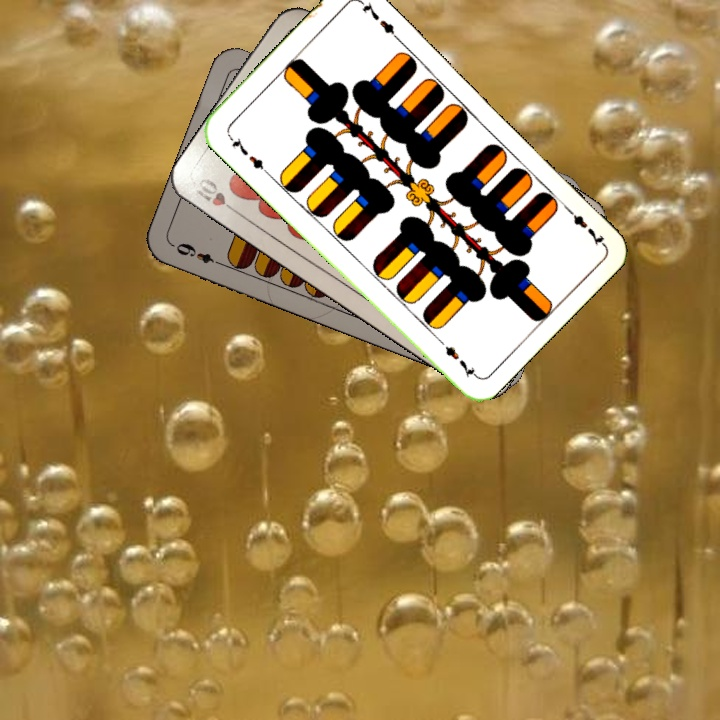E7: (560, 202, 607, 249), (224, 130, 271, 176)
E9: (169, 238, 226, 269)
H10: (187, 173, 243, 219)
